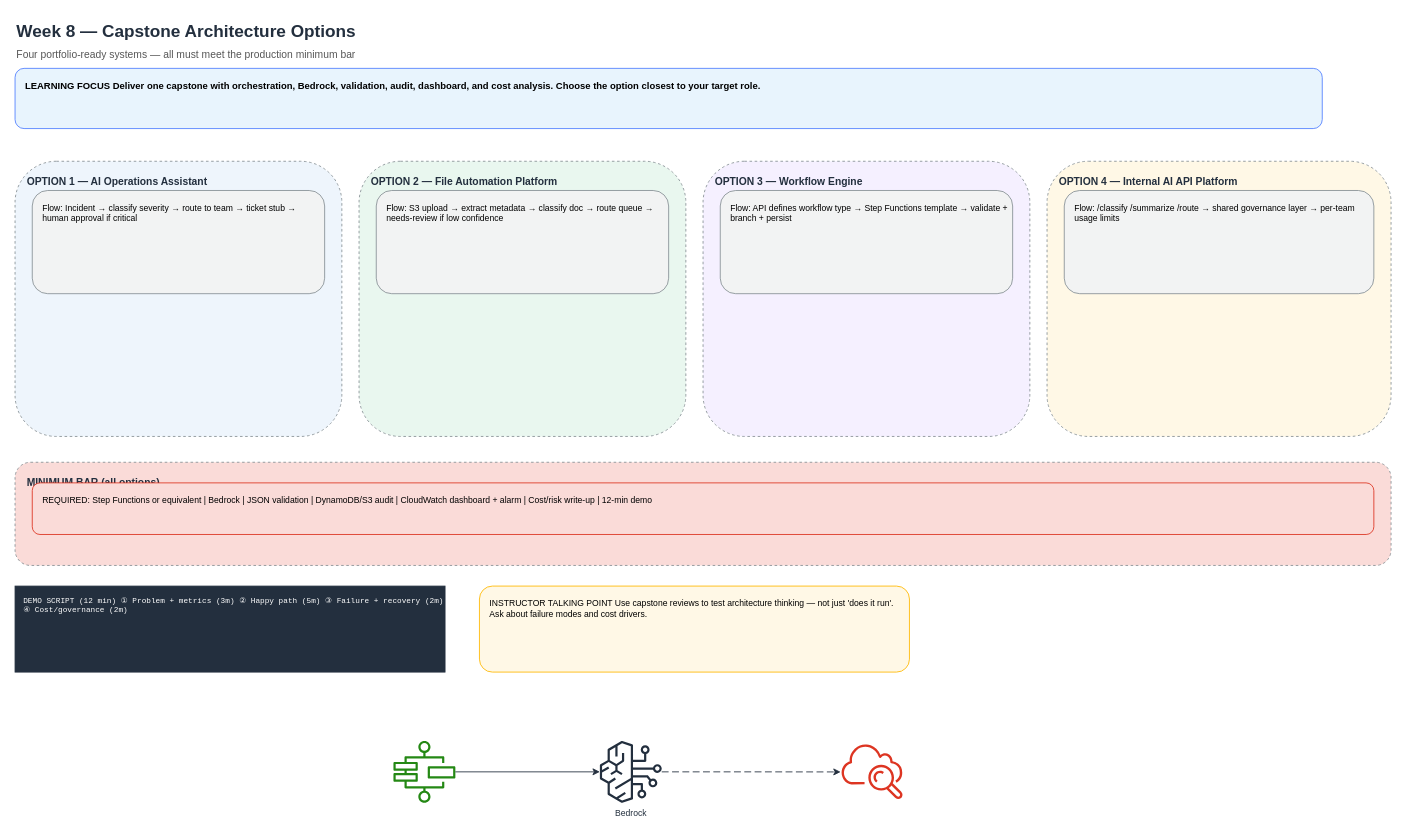
The diagram is 1423 pixels wide and 833 high, and some of its shapes have lost their labels. The centre of each missing label's shape, as x and y in pixels:
Governance: point 871,771
Orchestration: point 424,771
